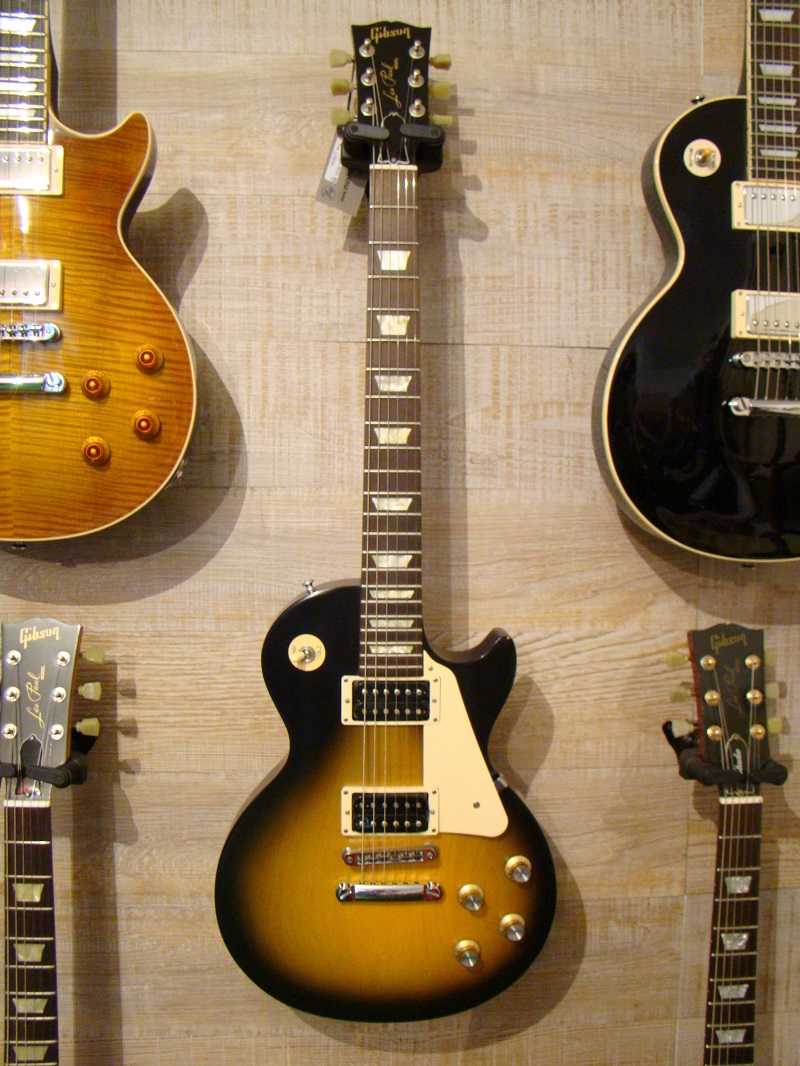guitar: (210, 13, 558, 1032)
